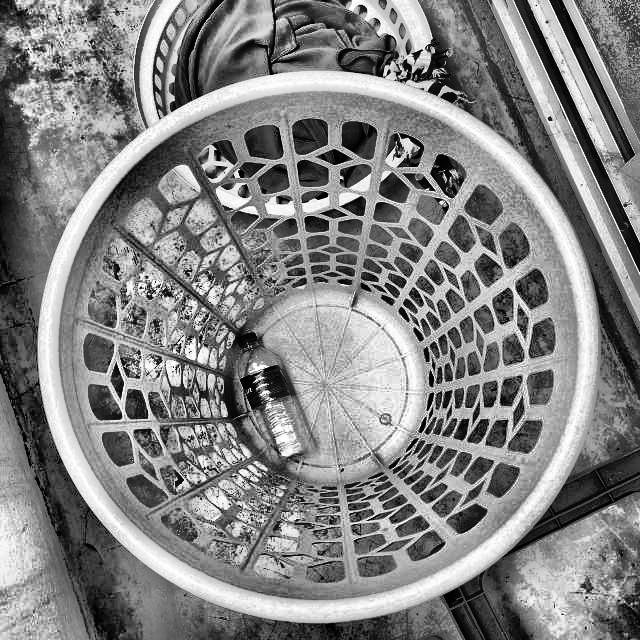Bottle-Disposed: (34, 79, 604, 623)
